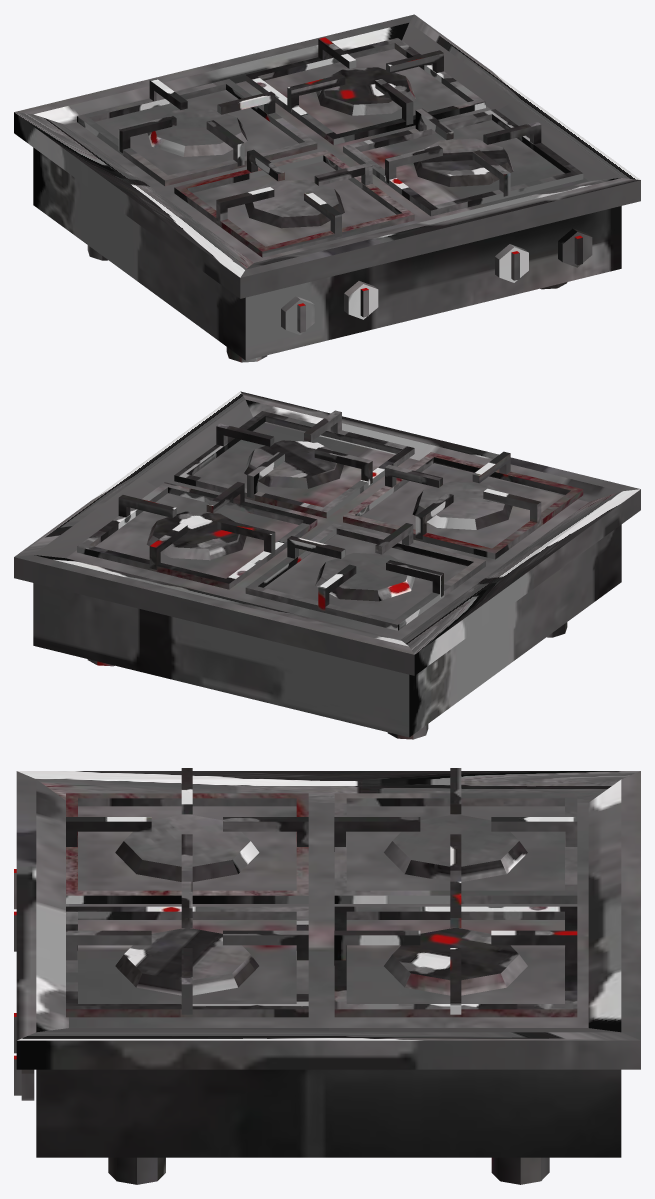
The model's file is grill.glb.
3 renders of one model, top to bottom at view 1: azimuth 30°, elevation 25°; view 2: azimuth 150°, elevation 25°; view 3: azimuth 270°, elevation 25°, orthographic. The views are drawn at different scales.
Visible parts, largest first — view 1: SM_Cooker_Kitchen_0; view 2: SM_Cooker_Kitchen_0; view 3: SM_Cooker_Kitchen_0.
Part boxes in pixels (bbox=[...]): SM_Cooker_Kitchen_0: bbox=[14, 14, 640, 362]; SM_Cooker_Kitchen_0: bbox=[14, 391, 640, 739]; SM_Cooker_Kitchen_0: bbox=[14, 768, 640, 1184].
Size of the model in its own units: 0.8076 by 0.2732 by 0.7939.
1 material, 1 textured.
